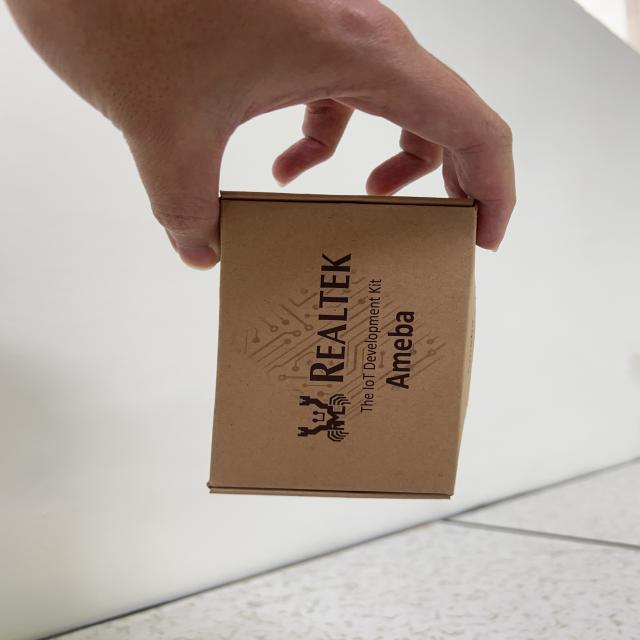box: (188, 182, 516, 516)
